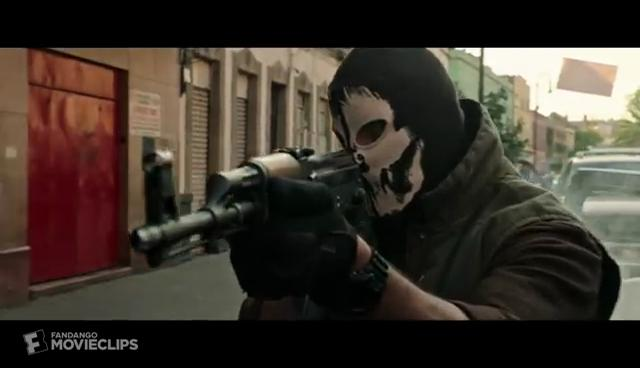criminal: (128, 48, 622, 320)
weapon: (128, 146, 370, 268)
